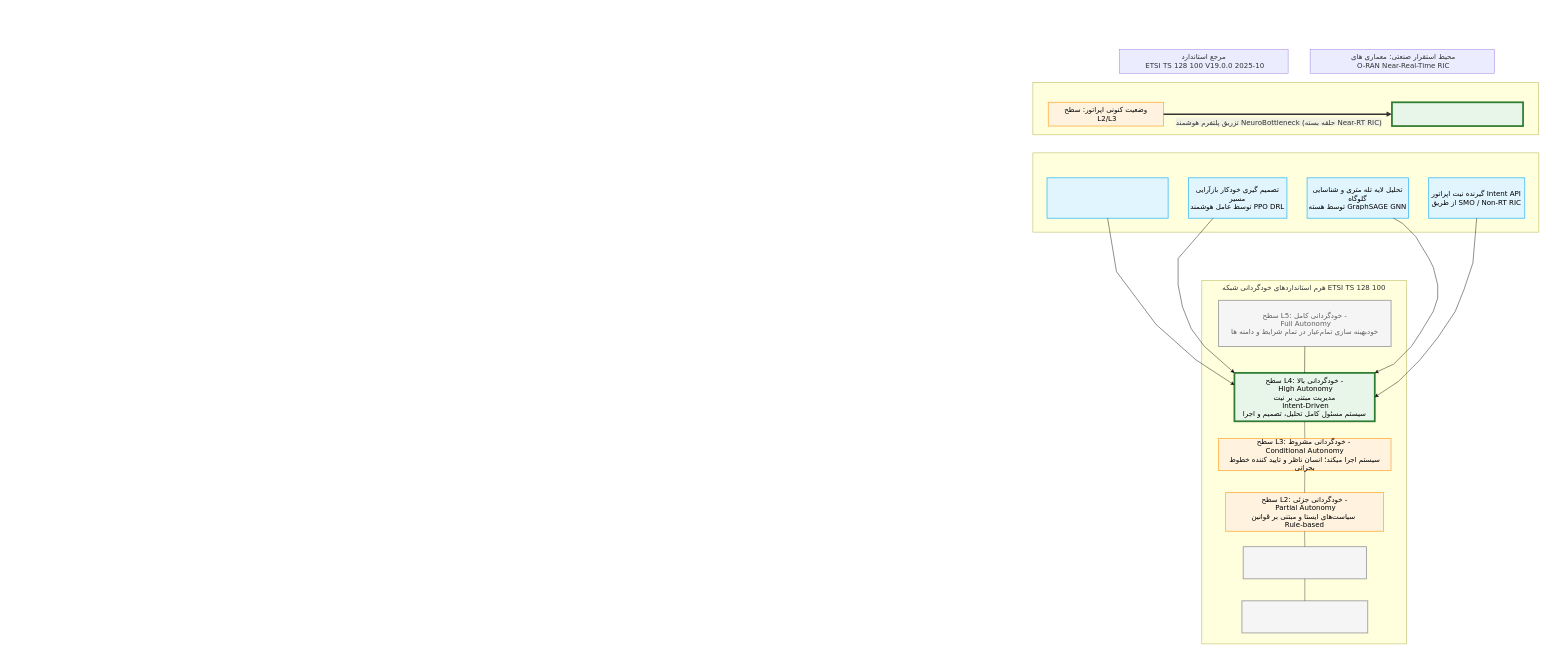
This 1565x652 diagram has some shape labels left out. Each missing label, with the box of its shape:
جهش استراتژیک شبکه همراه اول: (1032, 82, 1538, 135)
سطح L0: عملیات کاملاً دستی - Manual پایش و پیکربندی سنتی توسط تکنسین شبکه: (1241, 600, 1368, 633)
سطح L1: مهندسی کمکی - Assisted اسکریپت‌های دستی و اتوماسیون‌ های مجزا: (1243, 546, 1367, 579)
ضمانت پایداری و ۱۰۰٪ ایمن لایه رادیویی توسط Deterministic Action Masking: (1046, 177, 1168, 218)
نگاشت توابع اختصاصی پلتفرم NeuroBottleneck در سطح L4: (1032, 152, 1539, 232)
هدف فاز جاری: استقرار لایه خودترمیمی L4: (1391, 101, 1524, 127)
